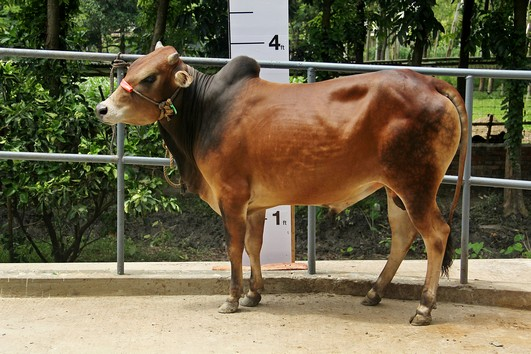cow: (88, 34, 469, 337)
